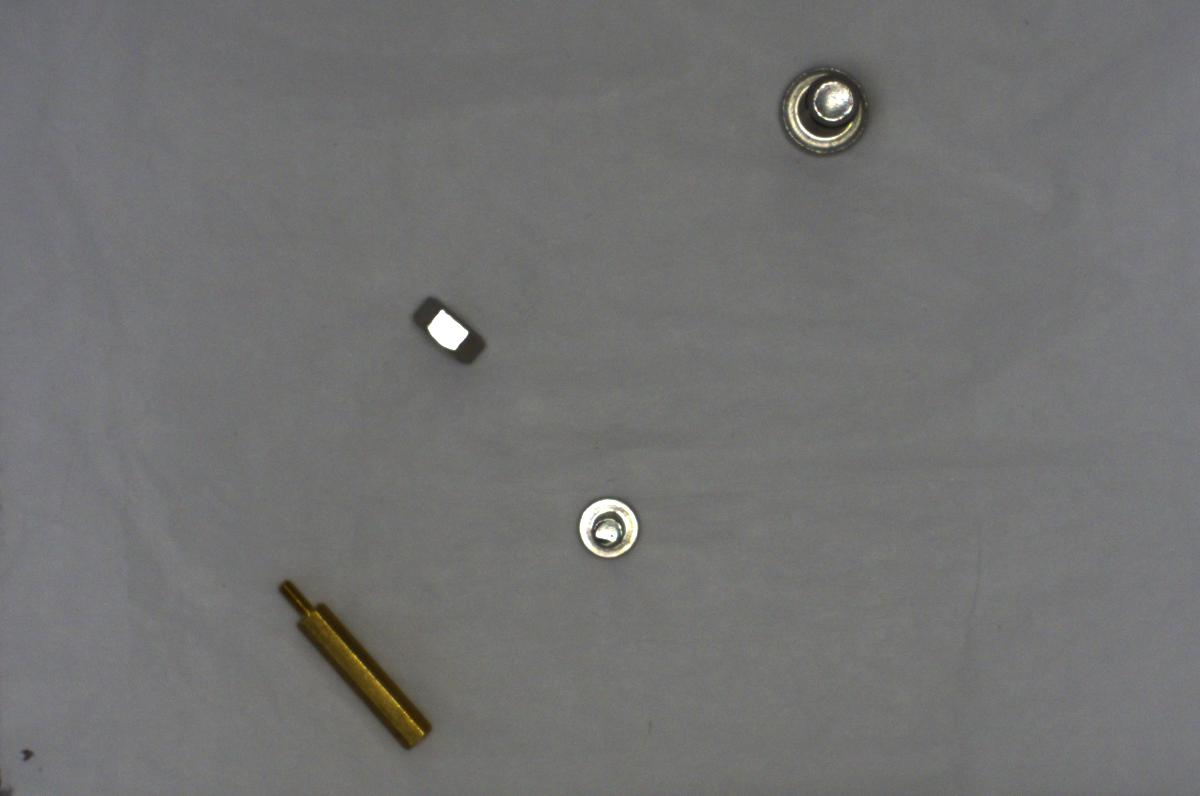Hexagon nut: (407, 283, 487, 366)
Hexagon pillar: (273, 573, 435, 752)
Hexagon screw: (778, 60, 871, 156)
Round head screw: (566, 494, 647, 562)
